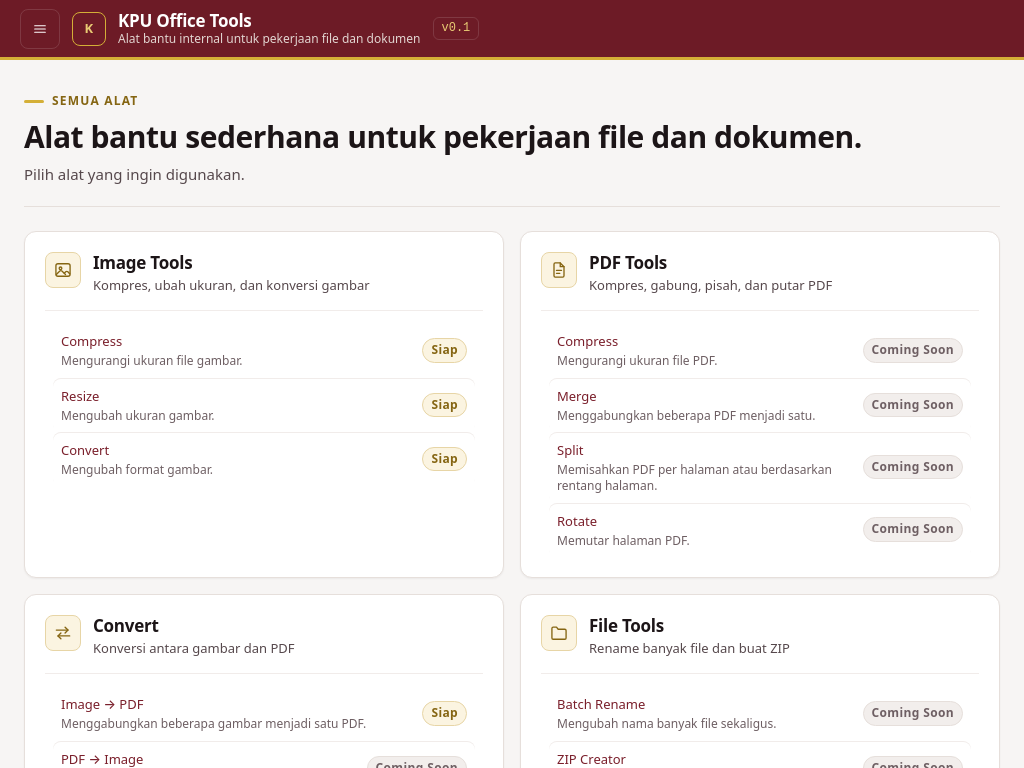
Test: layout responsif — mobile (Phase 1 §15) › tombol menu membuka drawer navigasi
Click the button named "buka menu navigasi" at [40, 28], box [20,8,60,48]
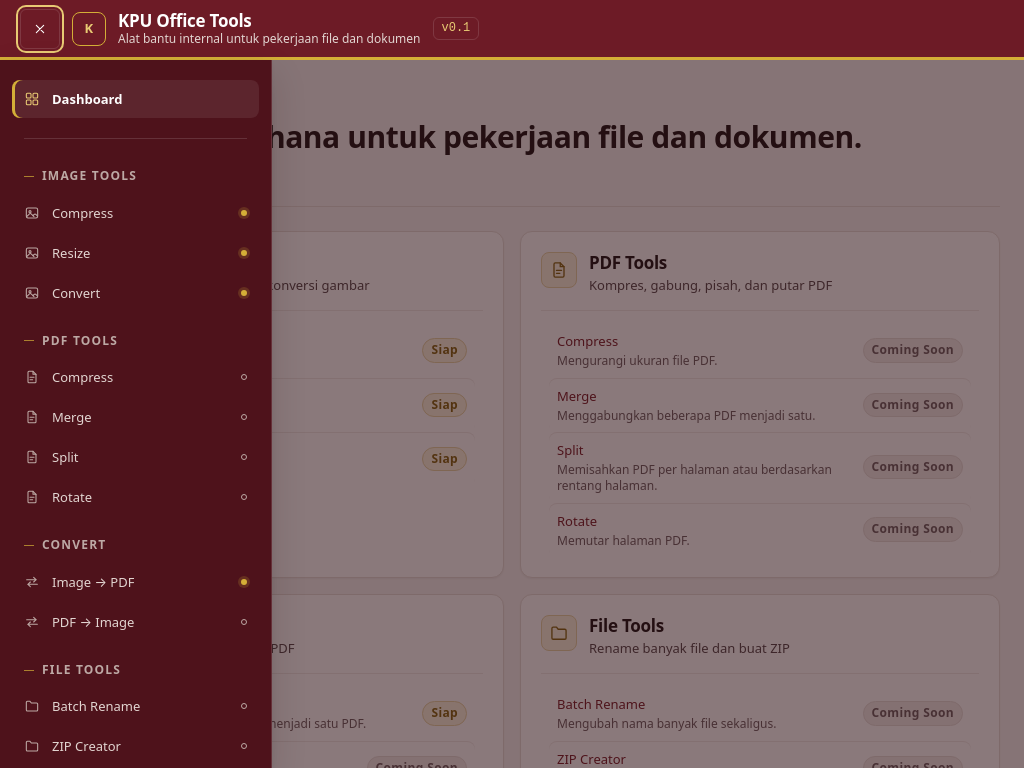
expect the button named "Tutup menu navigasi" is shown: met, box [20,8,60,48]
